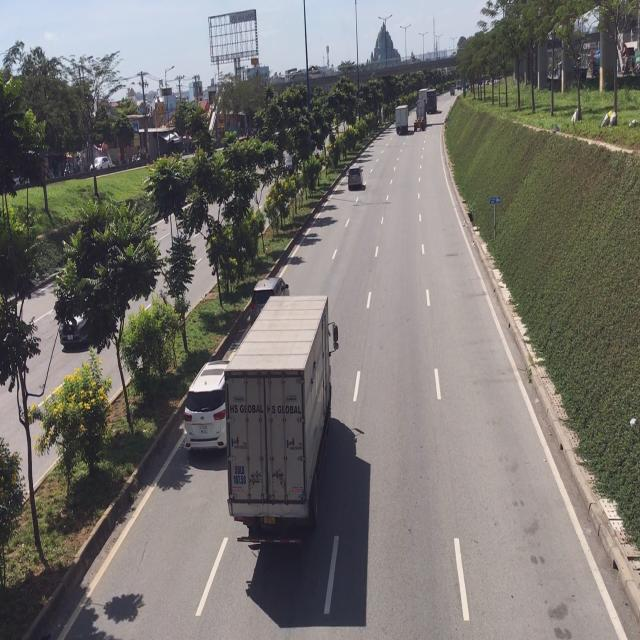car: (184, 358, 230, 450), (250, 278, 288, 318), (348, 163, 363, 191)
truck: (223, 299, 341, 551), (395, 104, 409, 134)
